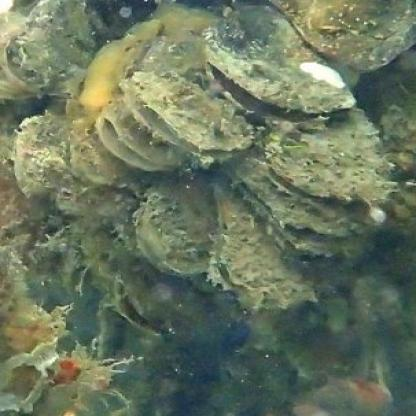3: (205, 8, 358, 130), (221, 154, 369, 260), (125, 69, 255, 164), (99, 96, 188, 172), (114, 267, 200, 337)
Oyster- Indeterminate: (209, 179, 318, 309), (270, 111, 392, 204)
Oyster-Closed: (272, 0, 416, 70), (140, 174, 216, 278), (16, 118, 75, 203)
